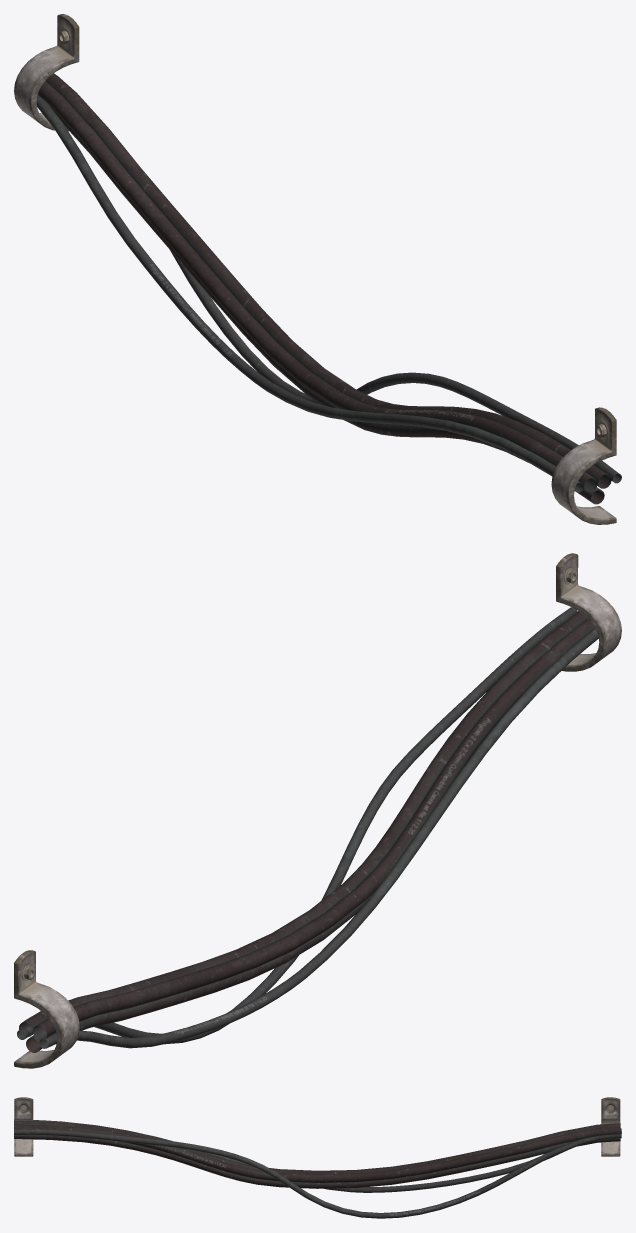
The model's file is SM_Cable_Set_01a.fbx.
3 renders of one model, top to bottom at view 1: azimuth 30°, elevation 25°; view 2: azimuth 150°, elevation 25°; view 3: azimuth 270°, elevation 25°, orthographic. The views are drawn at different scales.
Parts seen in each view (by area): view 1: SM_Cable_Set_01a_LOD0; view 2: SM_Cable_Set_01a_LOD0; view 3: SM_Cable_Set_01a_LOD0.
Boxes of the visible parts, x1,y1,x2,y2 form: SM_Cable_Set_01a_LOD0: (14, 14, 621, 524); SM_Cable_Set_01a_LOD0: (14, 553, 621, 1068); SM_Cable_Set_01a_LOD0: (14, 1097, 621, 1218).
Size of the model in its own units: 11.11 by 201 by 43.69.
